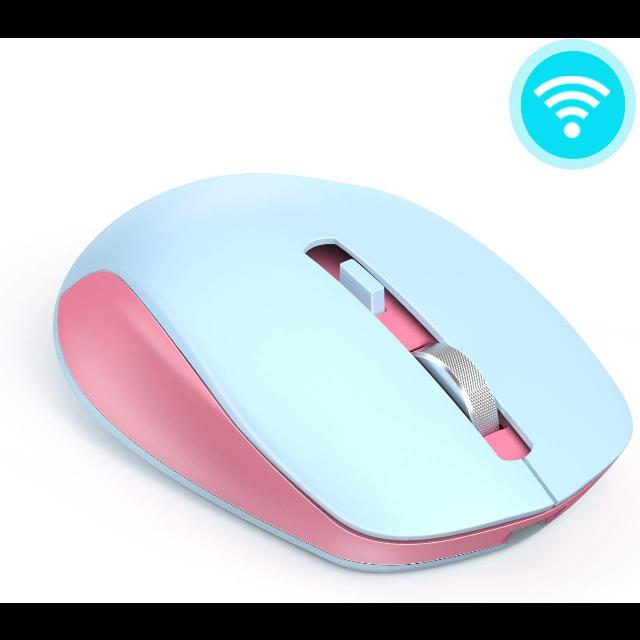Computer-Mouse: (52, 172, 634, 575)
